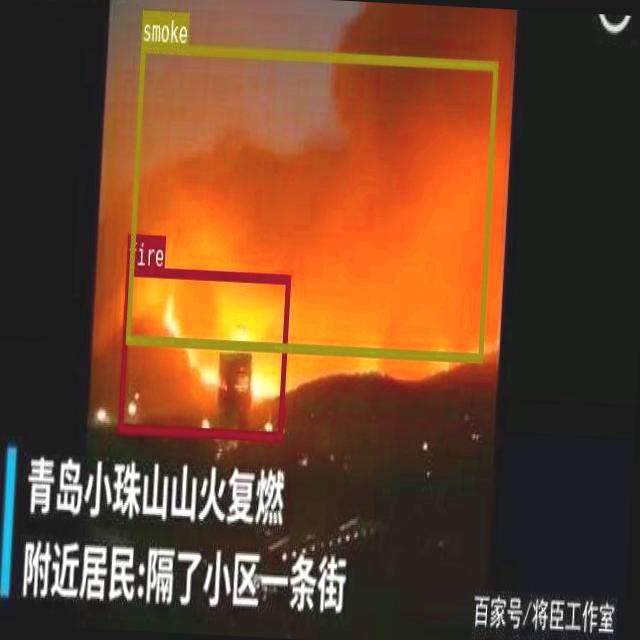fire: (118, 264, 290, 438)
smoke: (125, 42, 498, 360)
